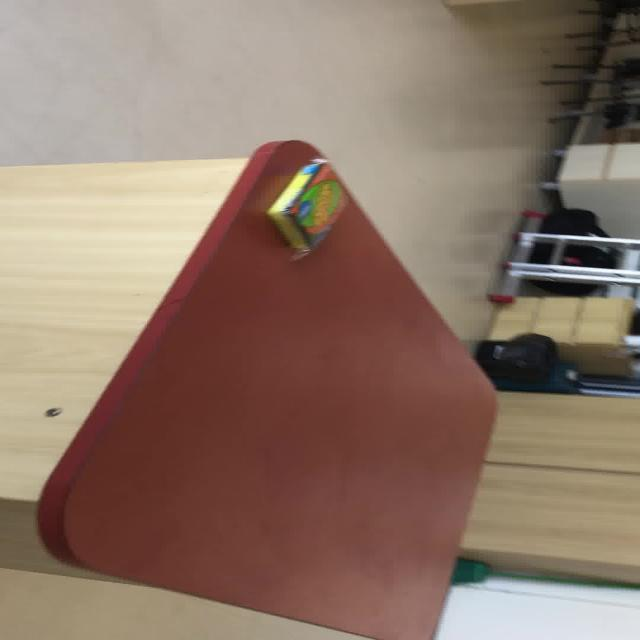sponge: (36, 138, 500, 638), (264, 157, 350, 260)
